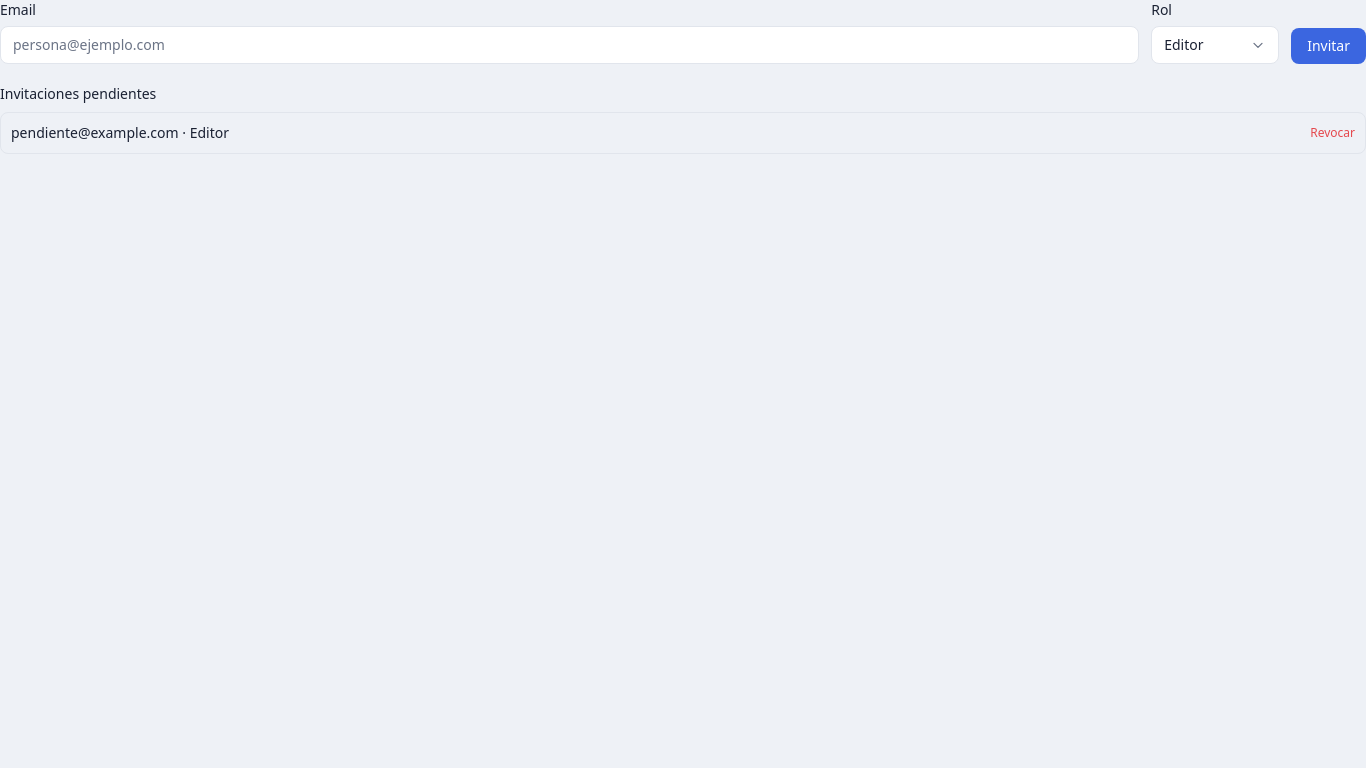
Scenario: InviteForm › revoca una invitación pendiente tras confirmar
Expected: the text "pendiente@example.com · Editor" is shown, [11,123,229,143]
Click the button "Revocar" at (1333, 133), box [1310,125,1355,141]
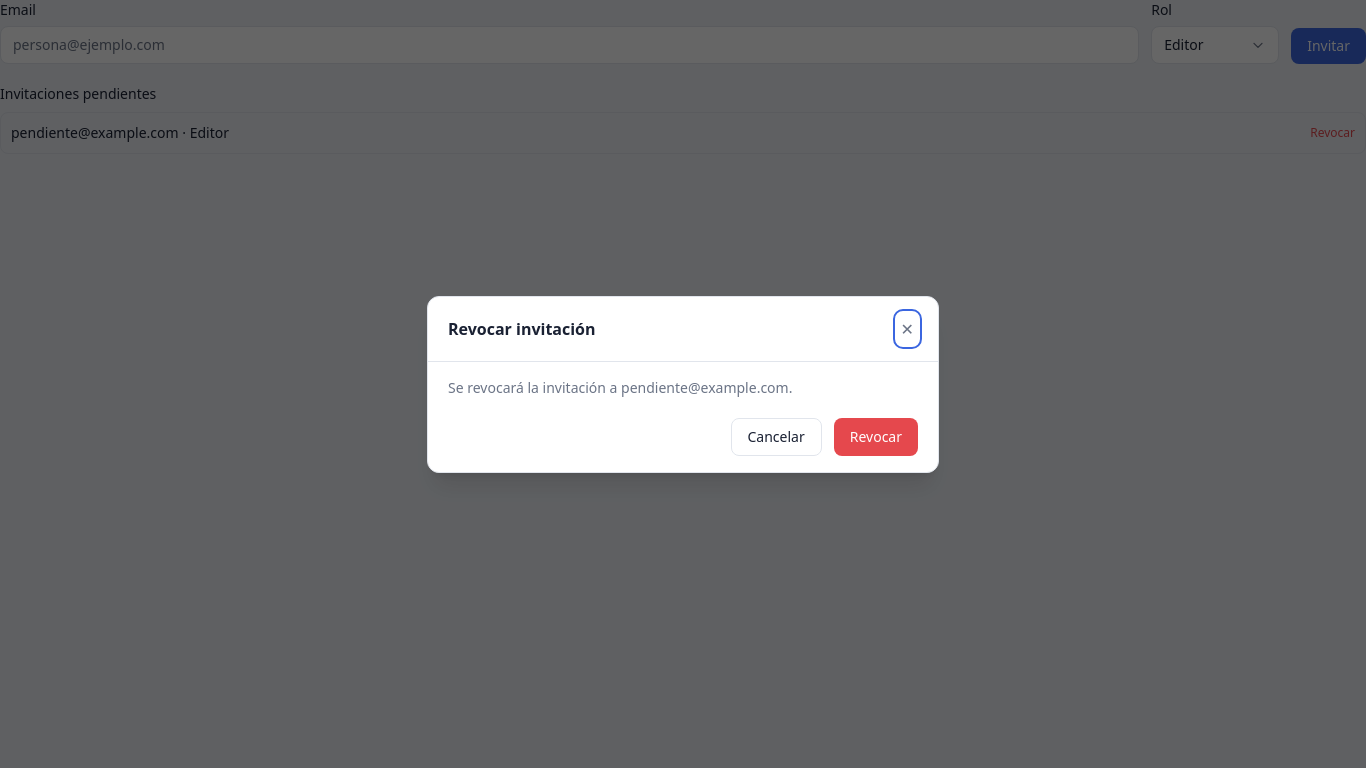
Click the button "Revocar" at (876, 436), box [834,418,918,456]
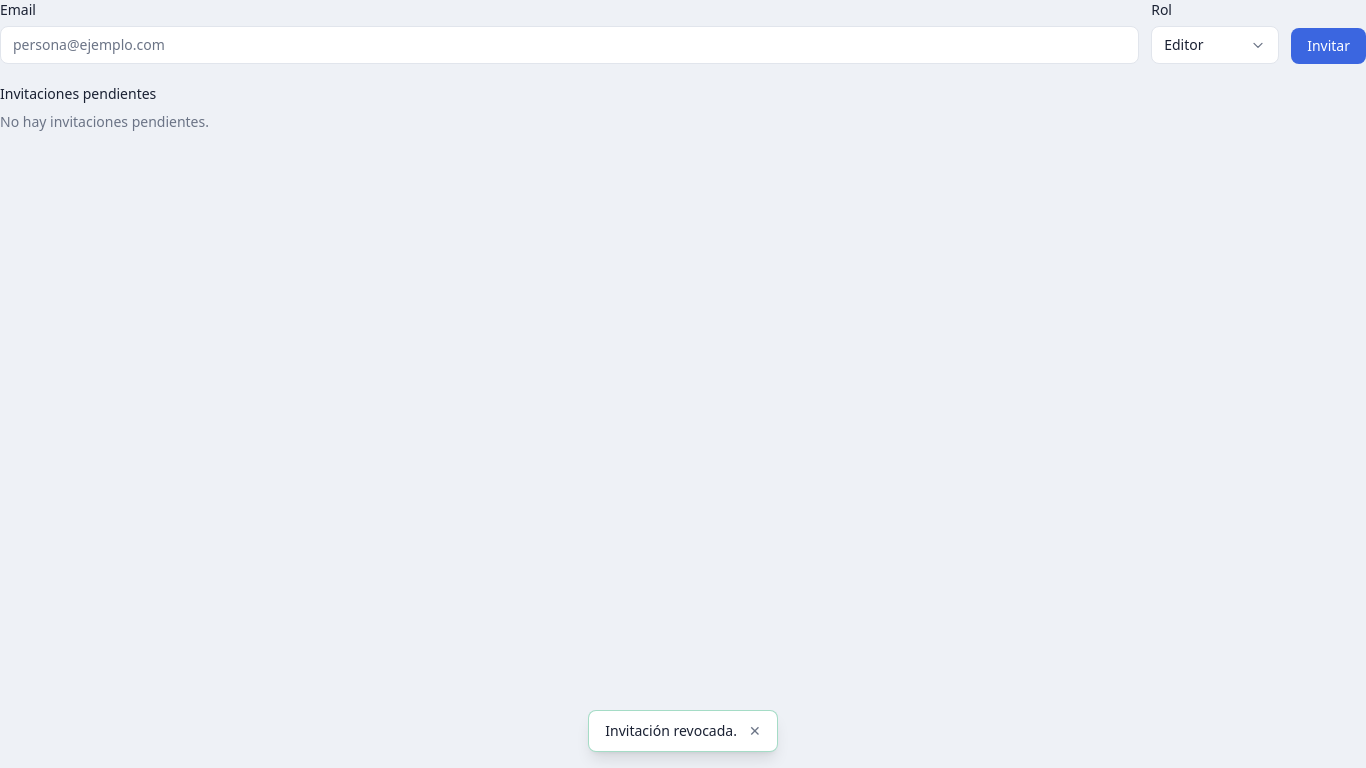
Expected: the text "Invitación revocada." is shown, [605,721,737,741]
Expected: the text "pendiente@example.com" is gone
